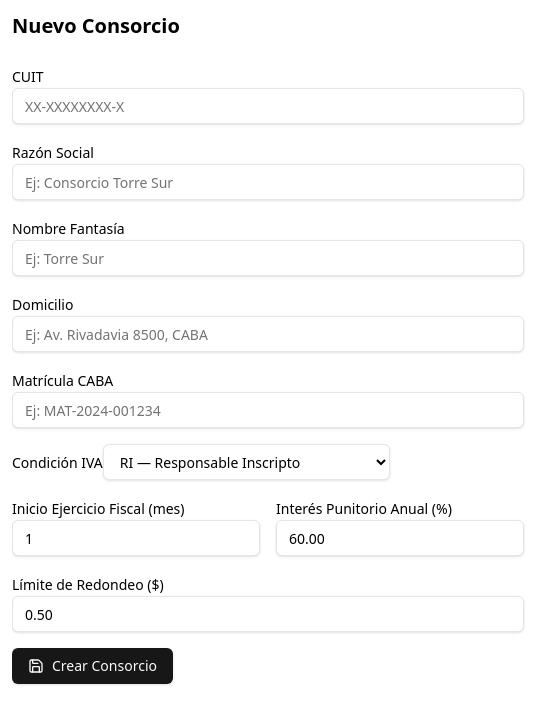
ConsorcioForm › [@validation] requires razón social
The width and height of the screenshot is (541, 724).
Type "30711111111" into the field labelled "CUIT" at (268, 106), box [12,88,524,124]
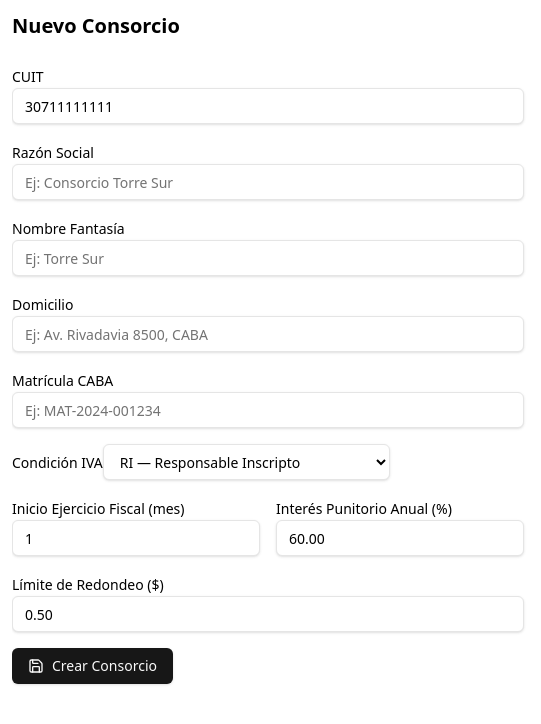
Click the button "Crear Consorcio" at (92, 666), box [12,648,173,684]
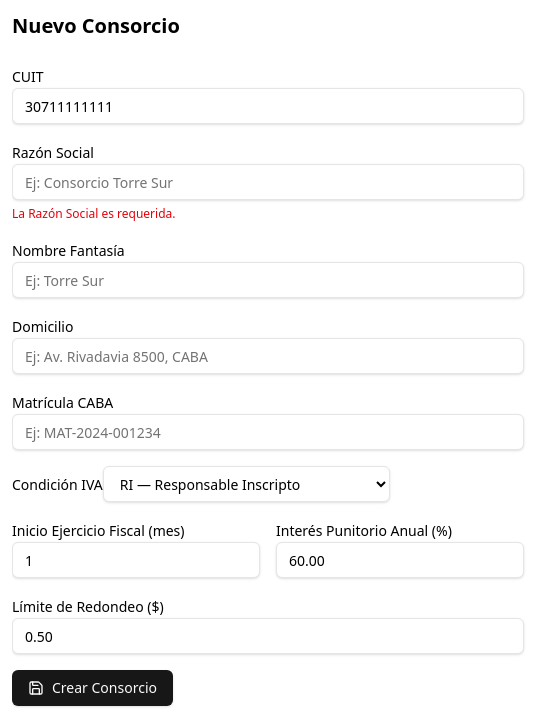
Result: the text "La Razón Social es requerida." is shown at [12,205,176,222]
